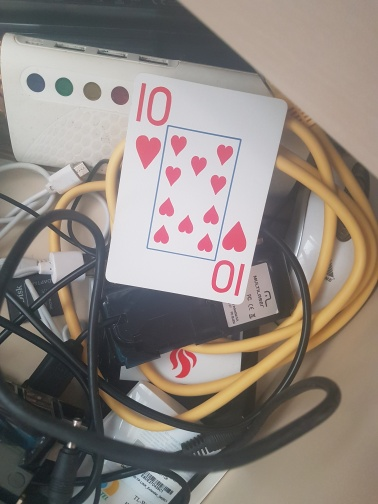ten: (105, 74, 288, 304)
